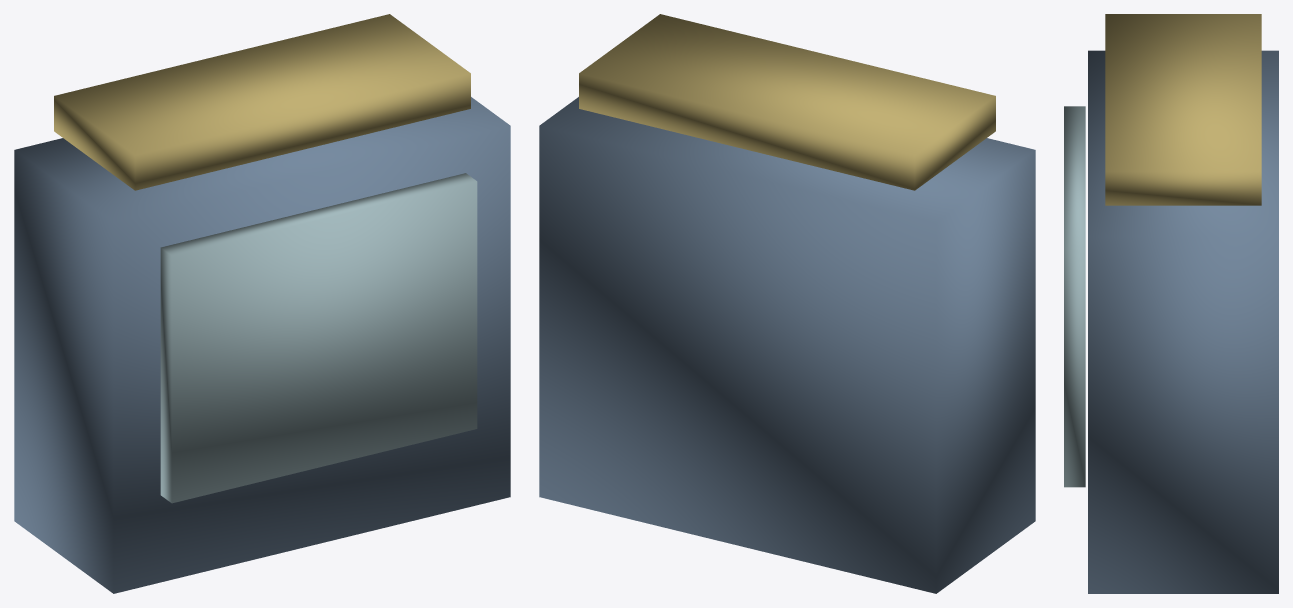
Rendered from lottery_counter_display__compact.glb.
3 renders of one model, left to right at view 1: azimuth 30°, elevation 25°; view 2: azimuth 150°, elevation 25°; view 3: azimuth 270°, elevation 25°, orthographic. The views are drawn at different scales.
Visible parts, largest first — view 1: world; view 2: world; view 3: world.
Boxes of the visible parts, x1,y1,x2,y2 form: world: [14, 14, 510, 593]; world: [539, 14, 1035, 593]; world: [1064, 14, 1278, 593].
Size of the model in its own units: 0.4368 by 0.4464 by 0.2129.
